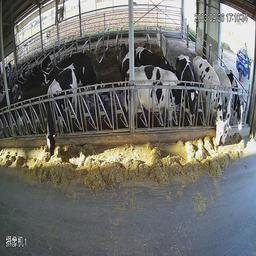cow: (123, 57, 193, 138), (41, 62, 83, 160), (195, 53, 223, 148), (173, 45, 202, 127), (213, 54, 238, 144)
